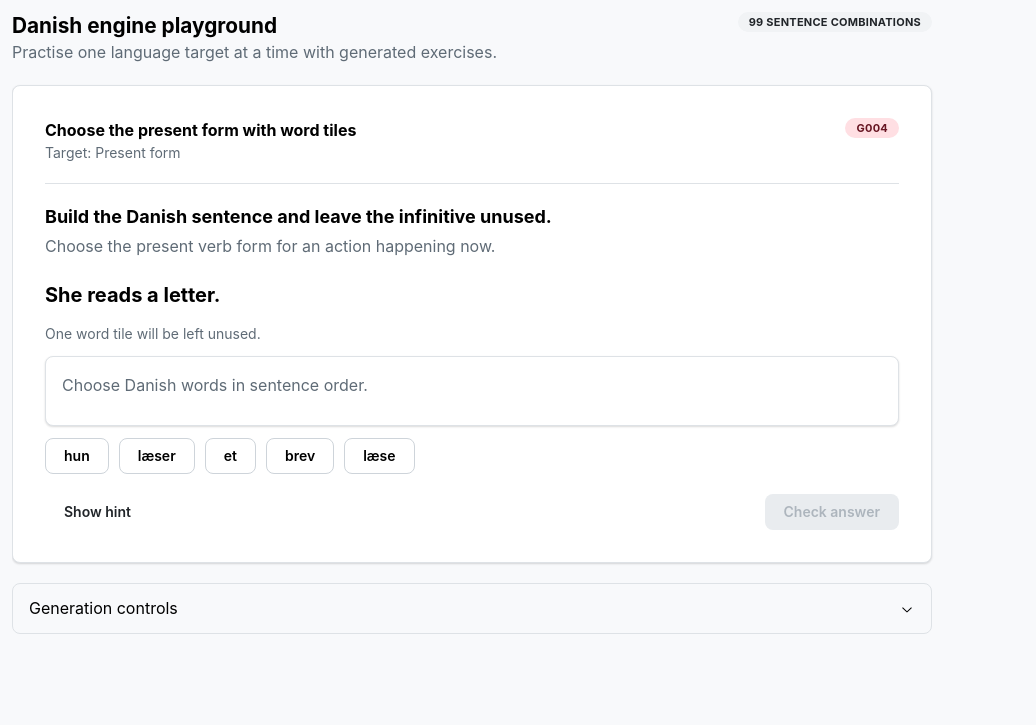
Test: Playground formats › submits a nonempty tile subset and replays the exact pending order
Click the button "hun" at (77, 456), box [45, 438, 109, 474]
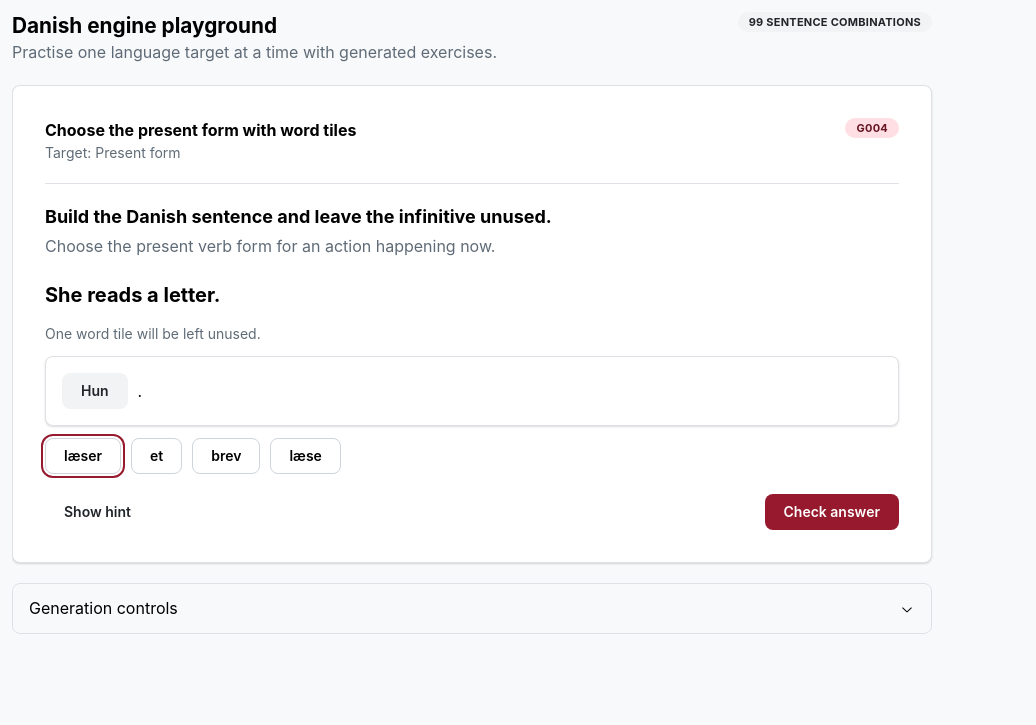
Check: the button "Check answer" is enabled
Click the button "Check answer" at (832, 512), box [764, 494, 899, 530]
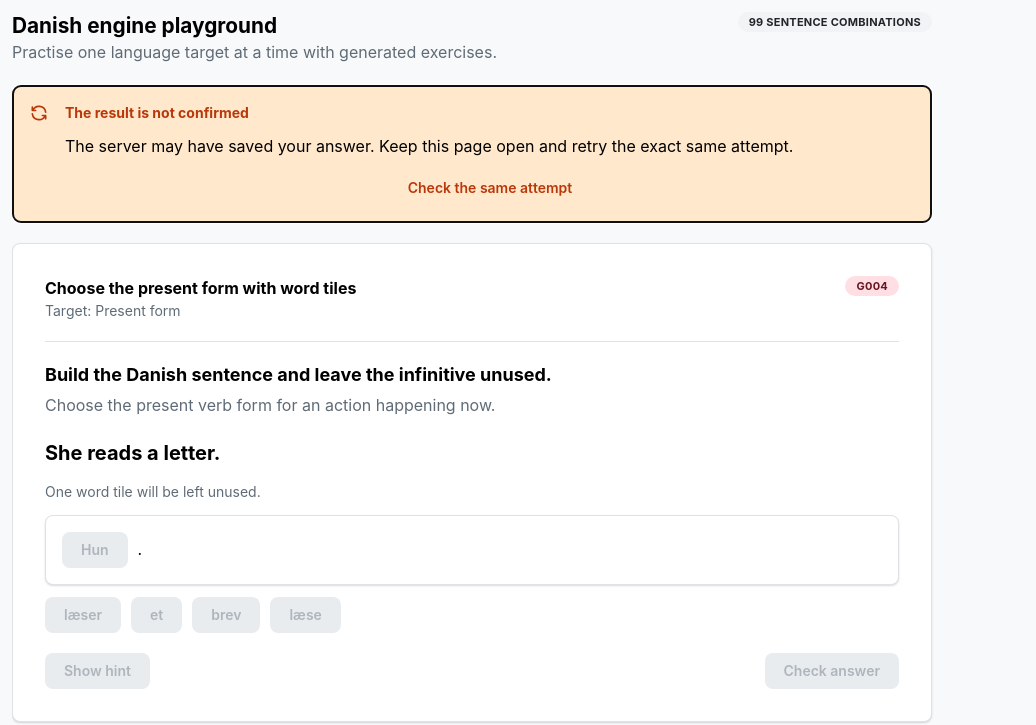
Check: the text "The result is not confirmed" is shown, box [65, 102, 249, 124]
Check: the button with aria-label "Remove hun from position 1" is disabled, box [62, 532, 128, 568]
Click the button "Check the same attempt" at (490, 188), box [65, 170, 915, 206]
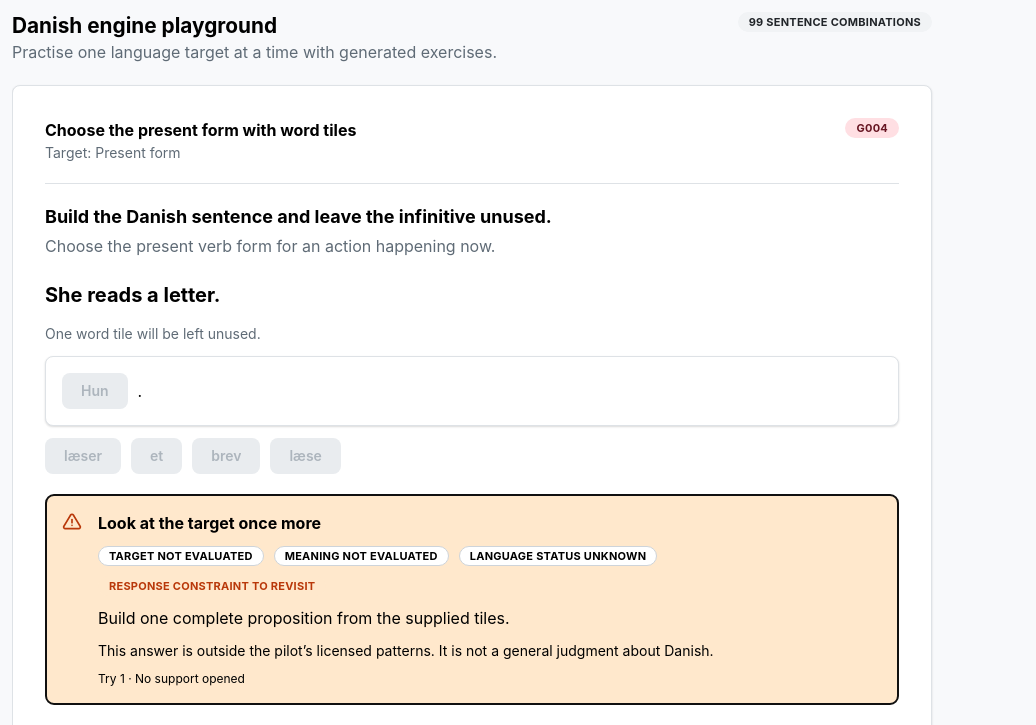
Check: the text "Response constraint to revisit" is shown, box [109, 577, 315, 595]
